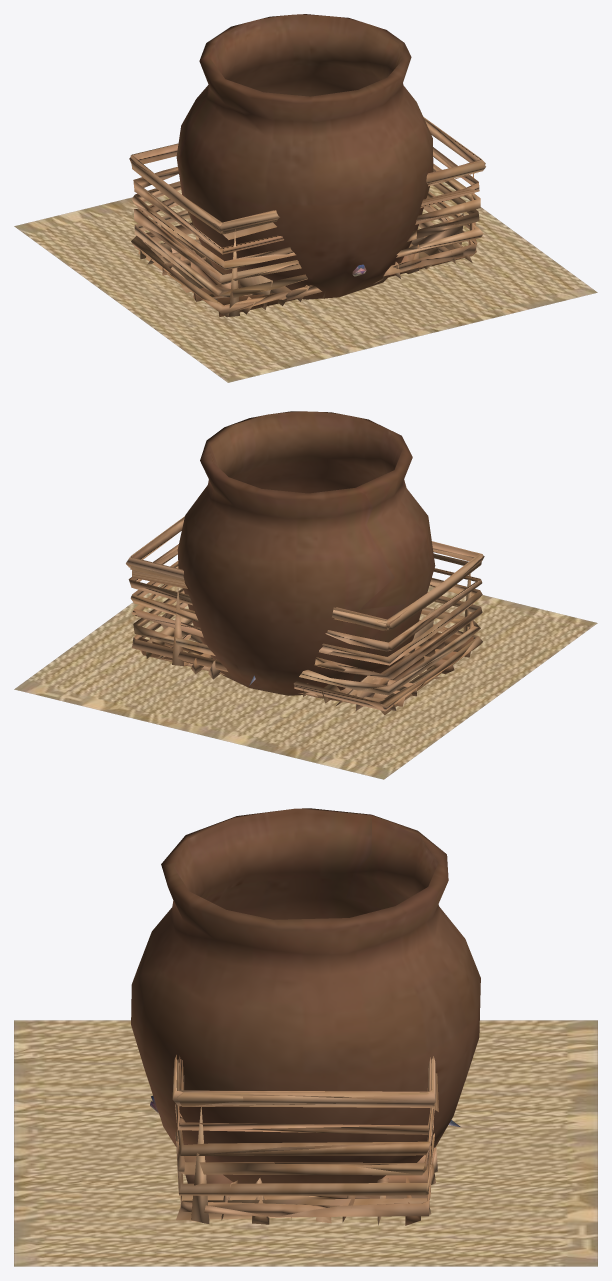
File: mercado.glb
3 renders of one model, top to bottom at view 1: azimuth 30°, elevation 25°; view 2: azimuth 150°, elevation 25°; view 3: azimuth 270°, elevation 25°, orthographic. The views are drawn at different scales.
Visible parts, largest first — view 1: olla, estera, cesta; view 2: olla, estera, cesta; view 3: olla, estera, cesta.
Boxes of the visible parts, x1=… form: olla: x1=176, y1=14, x2=433, y2=299; estera: x1=14, y1=181, x2=597, y2=382; cesta: x1=129, y1=117, x2=485, y2=317; olla: x1=177, y1=411, x2=435, y2=695; estera: x1=14, y1=583, x2=597, y2=779; cesta: x1=126, y1=516, x2=484, y2=715; olla: x1=131, y1=808, x2=480, y2=1183; estera: x1=14, y1=1020, x2=597, y2=1266; cesta: x1=172, y1=1055, x2=438, y2=1225.
Bounding box in the file's own units: 0.4668 × 0.2461 × 0.4678.
Materials: 1 (1 with a texture image).
